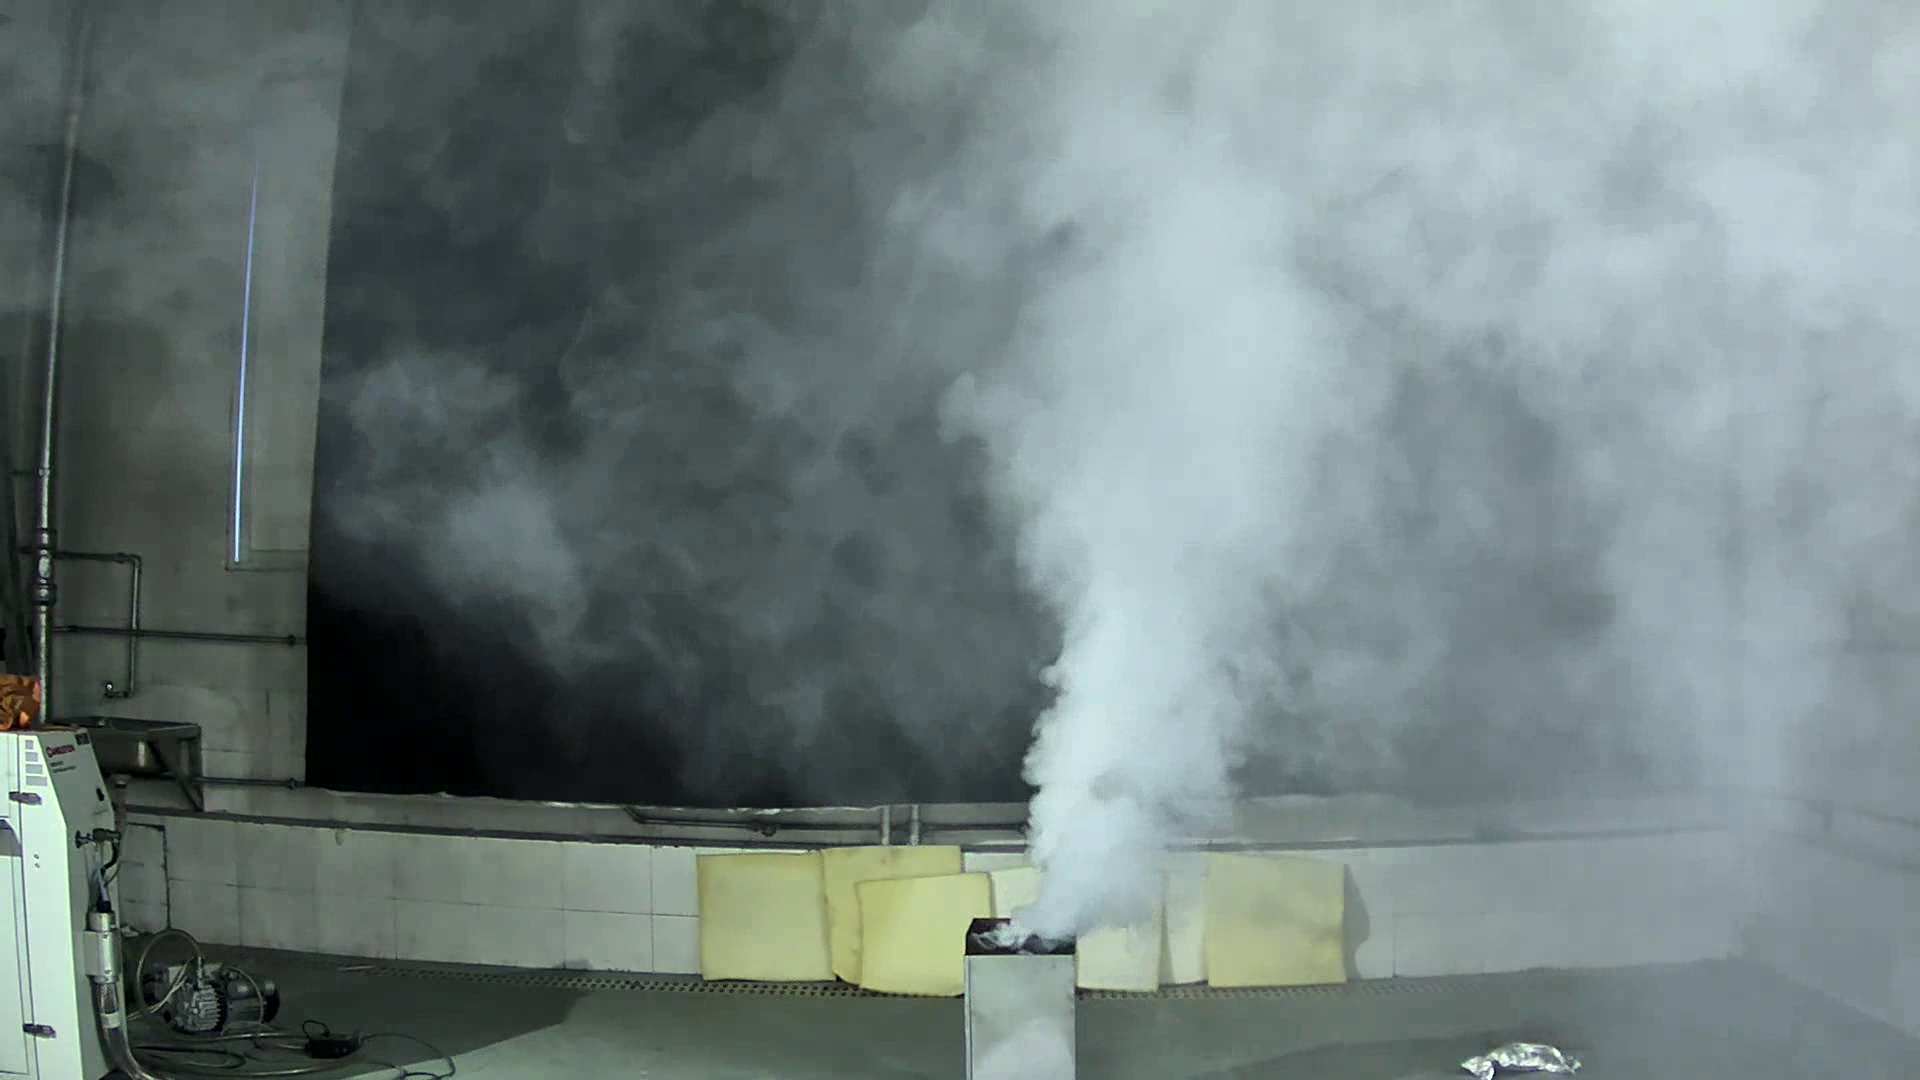smoke: (843, 57, 1461, 936)
